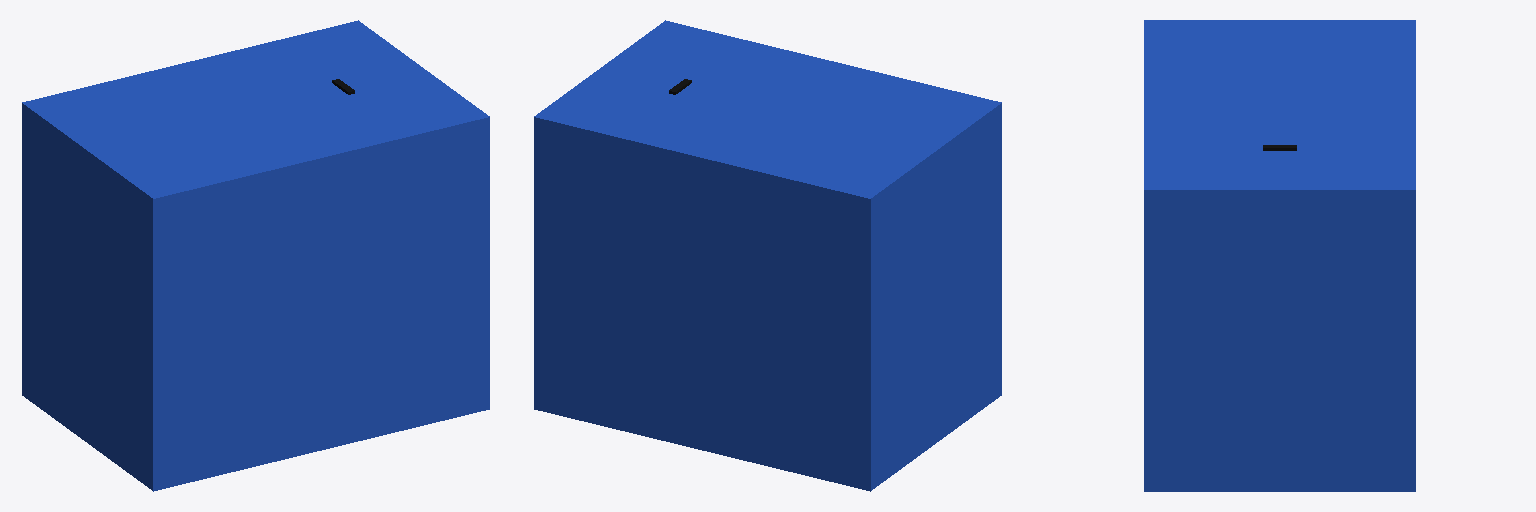
robot.urdf — rover:
<?xml version="1.0"?>
<robot name="rover">
  

  <material name="blue">
    <color rgba="0.2 0.4 0.8 0.5"/>  <!-- Bright blue -->
  </material>
  <material name="black">
    <color rgba="0.1 0.1 0.1 1.0"/>  <!-- Dark grey/black -->
  </material>
  <material name="grey">
    <color rgba="0.5 0.5 0.5 1.0"/>  <!-- Medium grey -->
  </material>
  <material name="red">
    <color rgba="1.0 0.0 0.0 1.0"/>  <!-- Bright red -->
  </material>
  <material name="green">
    <color rgba="0.0 1.0 0.0 1.0"/>  <!-- Bright green -->
  </material>

  <!-- Base Link -->
  <link name="base_link">
    <visual>
      <geometry>
        <box size="1.24 0.84 1.029"/>
      </geometry>
      <material name="blue"/>
    </visual>
  </link>

  <!-- Camera Link -->
  <link name="camera_link">
    <visual>
      <geometry>
        <box size="0.025 0.103 0.027"/>
      </geometry>
      <material name="black"/>
    </visual>
  </link>

  <!-- LiDAR Link -->
  <link name="lidar_link">
    <visual>
      <geometry>
        <cylinder radius="0.035" length="0.06"/>
      </geometry>
      <material name="grey"/>
    </visual>
  </link>

  <!-- camera ground link -->
  <link name="camera_ground_link">
    <visual>
      <geometry>
        <box size="0.025 0.103 0.027"/>
      </geometry>
      <material name="red"/>
    </visual>
  </link>

  <!-- Fixed Joints -->
  <joint name="camera_joint" type="fixed">
    <parent link="base_link"/>
    <child link="camera_link"/>
    <origin xyz="0.323 0 0.511"/>
  </joint>

  <joint name="lidar_joint" type="fixed">
    <parent link="base_link"/>
    <child link="lidar_link"/>
    <origin xyz="0.4219 0 0.095"/>
  </joint>

  <joint name="camera_ground_joint" type="fixed">
    <parent link="base_link"/>
    <child link="camera_ground_link"/>
    <origin xyz="0.323 0 -0.511"/>
  </joint>

</robot>

--- Facts derived from the render (not from the file) ---
3 views of the same robot in one strip: view 1: azimuth 30°, elevation 25°; view 2: azimuth 150°, elevation 25°; view 3: azimuth 270°, elevation 25° (orthographic).
Robot: rover — 4 links, 3 joints (3 fixed); root link base_link; default pose: all joints at 0.
Visible links, largest first — view 1: base_link; view 2: base_link; view 3: base_link.
Boxes of the visible links, box(x1,y1,x2,y2) form: base_link: box(22, 20, 489, 491); base_link: box(534, 20, 1001, 491); base_link: box(1144, 20, 1415, 491).
Size in the robot's own frame: 1.24 by 0.84 by 1.05 metres.
Geometry: primitives only (box / cylinder / sphere), no mesh files.
